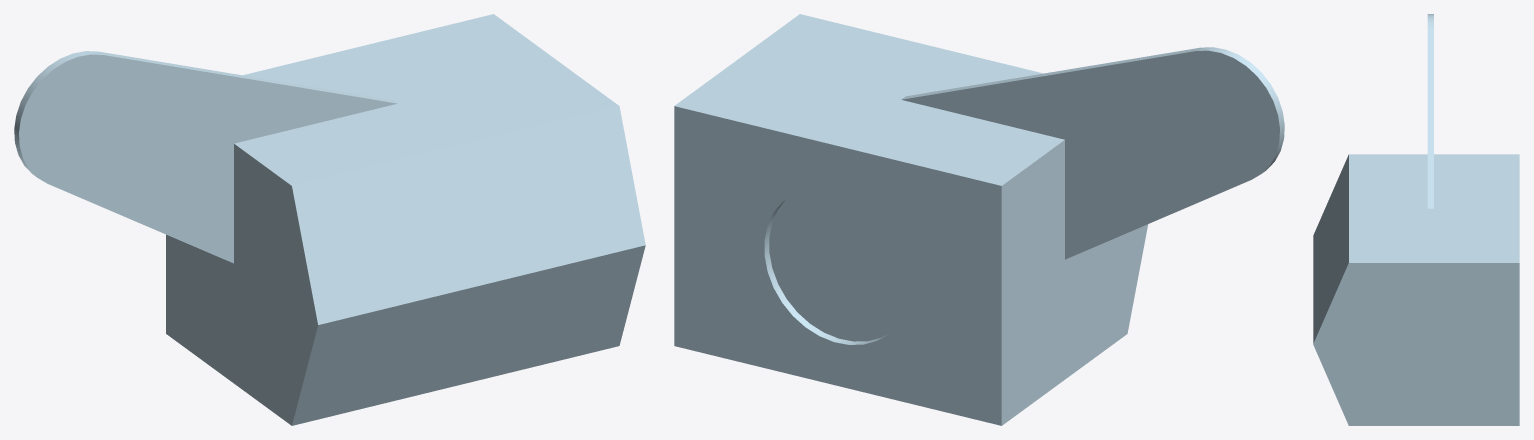
Rendered from Head.gltf.
3 renders of one model, left to right at view 1: azimuth 30°, elevation 25°; view 2: azimuth 150°, elevation 25°; view 3: azimuth 270°, elevation 25°, orthographic. The views are drawn at different scales.
Visible parts, largest first — view 1: mesh34, mesh38, mesh36, mesh33, mesh35, mesh39, mesh40; view 2: mesh30, mesh37, mesh36, mesh35, mesh28, mesh29, mesh39, mesh40; view 3: mesh32, mesh36, mesh34, mesh39.
Boxes of the visible parts, x1=… form: mesh34: x1=292, y1=106, x2=645, y2=324; mesh38: x1=19, y1=54, x2=396, y2=263; mesh36: x1=234, y1=14, x2=618, y2=185; mesh33: x1=292, y1=245, x2=645, y2=425; mesh35: x1=166, y1=144, x2=317, y2=425; mesh39: x1=99, y1=51, x2=397, y2=103; mesh40: x1=14, y1=51, x2=102, y2=176; mesh30: x1=674, y1=106, x2=1001, y2=425; mesh37: x1=901, y1=50, x2=1279, y2=259; mesh36: x1=675, y1=14, x2=1064, y2=185; mesh35: x1=1001, y1=140, x2=1148, y2=425; mesh28: x1=769, y1=187, x2=911, y2=341; mesh29: x1=764, y1=199, x2=889, y2=344; mesh39: x1=902, y1=47, x2=1199, y2=99; mesh40: x1=1196, y1=47, x2=1284, y2=173; mesh32: x1=1313, y1=263, x2=1519, y2=425; mesh36: x1=1349, y1=154, x2=1519, y2=262; mesh34: x1=1313, y1=154, x2=1348, y2=343; mesh39: x1=1427, y1=29, x2=1433, y2=208.
Size of the model in its own units: 0.3313 by 0.2128 by 0.1608.
